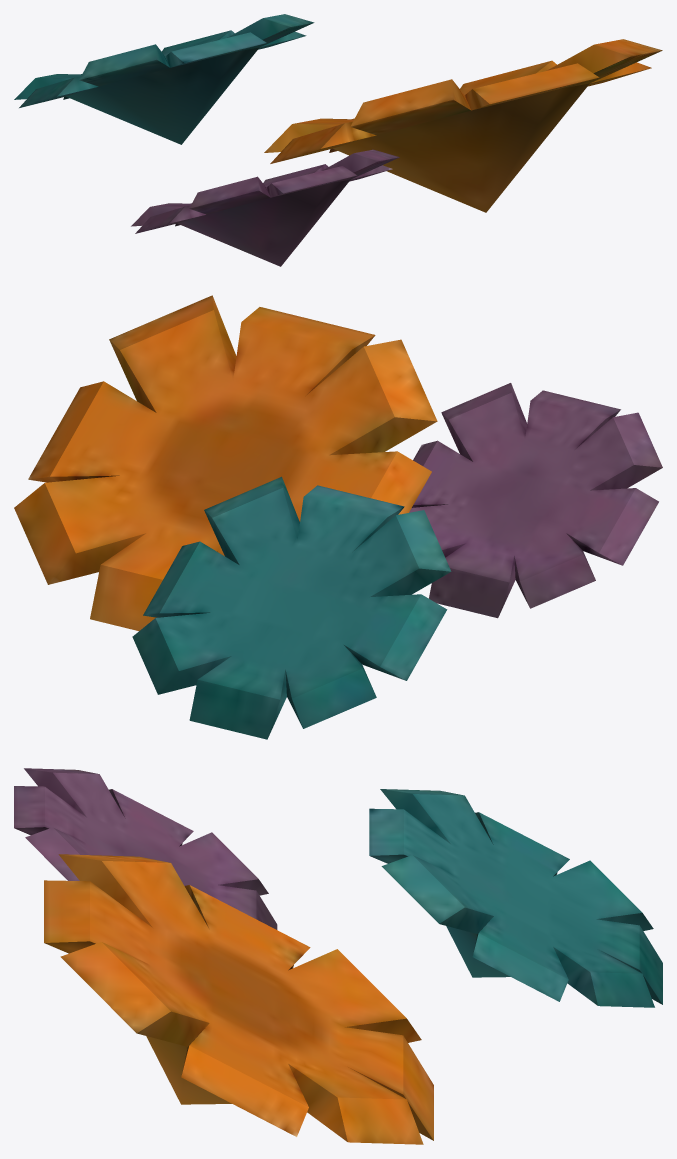
The model's file is FOL_Flower_MID_05.obj.
3 renders of one model, top to bottom at view 1: azimuth 30°, elevation 25°; view 2: azimuth 150°, elevation 25°; view 3: azimuth 270°, elevation 25°, orthographic. The views are drawn at different scales.
Parts seen in each view (by area): view 1: FOL_Flower_MID_05; view 2: FOL_Flower_MID_05; view 3: FOL_Flower_MID_05.
Part boxes in pixels (left/top/right/bottom): FOL_Flower_MID_05: left=14, top=14, right=662, bottom=266; FOL_Flower_MID_05: left=14, top=295, right=662, bottom=739; FOL_Flower_MID_05: left=14, top=768, right=662, bottom=1144.
Size of the model in its own units: 0.5152 by 0.1743 by 0.4801.
Materials: 1 (1 with a texture image).
